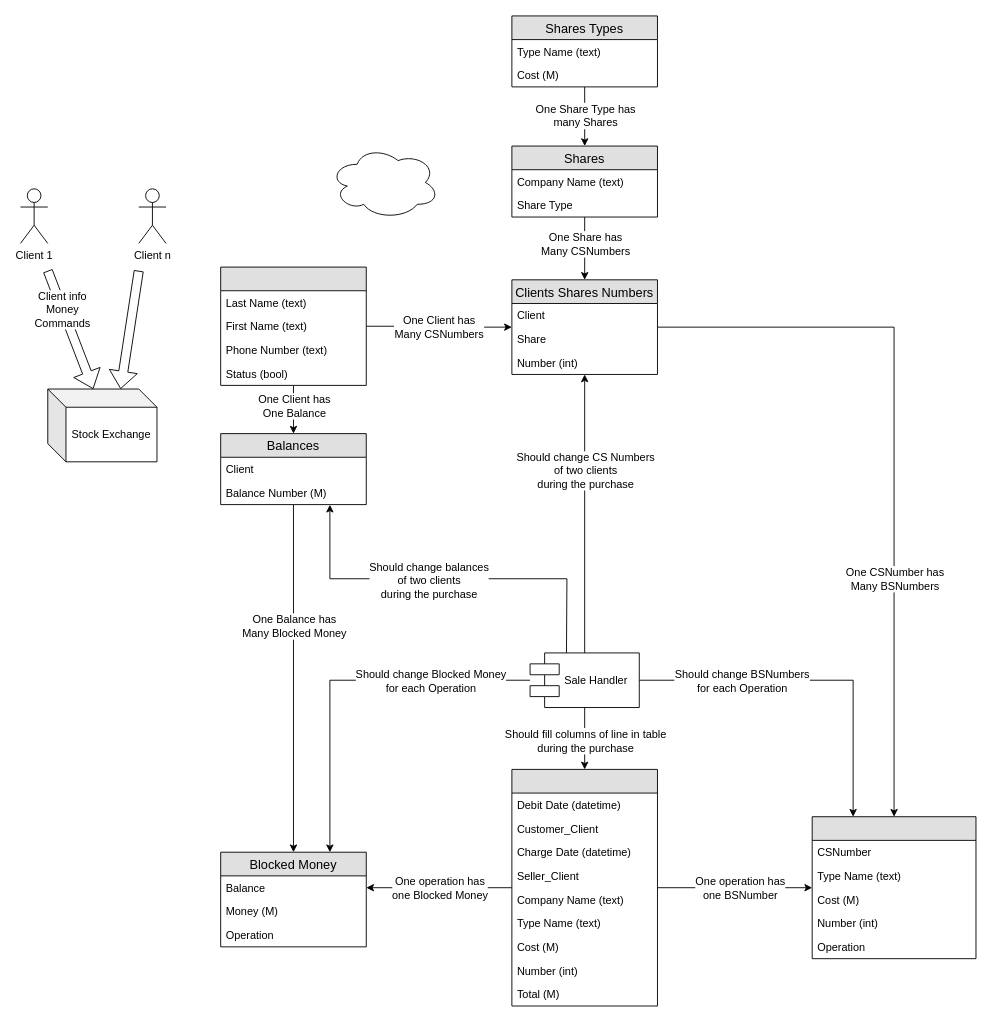
The diagram is 992 pixels wide and 1025 high, and some of its shapes have lost their labels. Each missing label, with the box of its shape:
Blocked Shares Numbers: (811, 816, 976, 959)
Clients: (220, 266, 366, 385)
Operations: (511, 768, 657, 1006)
Traiding app: (329, 145, 439, 219)
